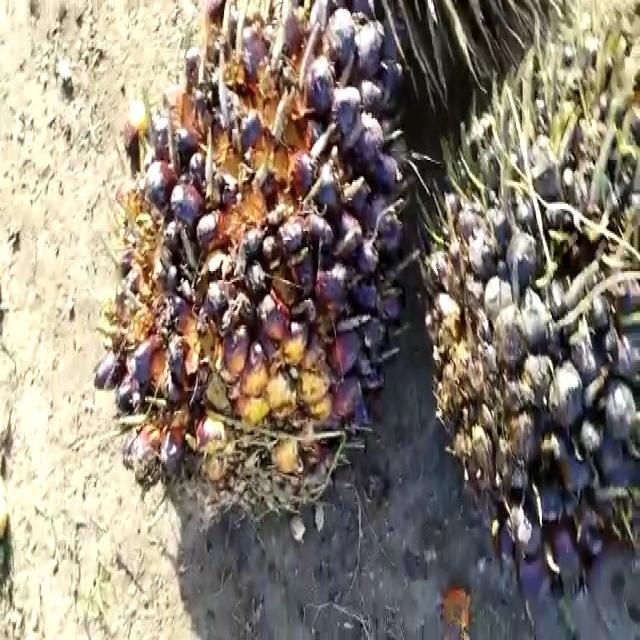palm oil: (96, 0, 415, 567), (433, 12, 640, 574)
